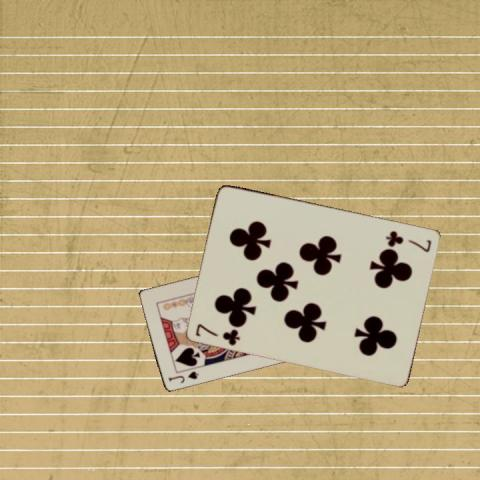7c: (193, 320, 242, 347), (383, 227, 433, 253)
Js: (166, 368, 200, 384)
